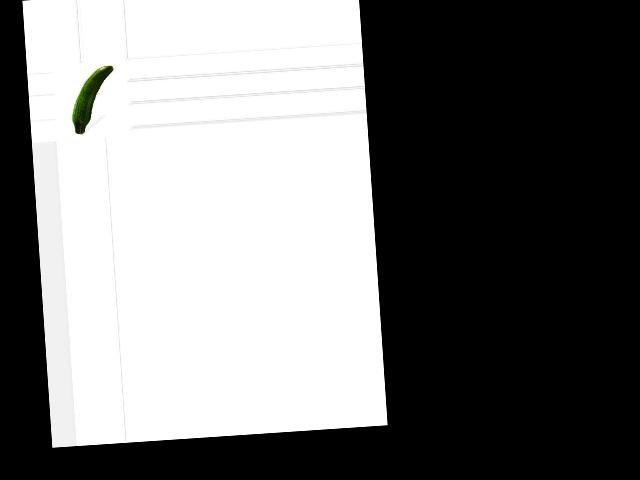cucumber: (69, 65, 118, 135)
